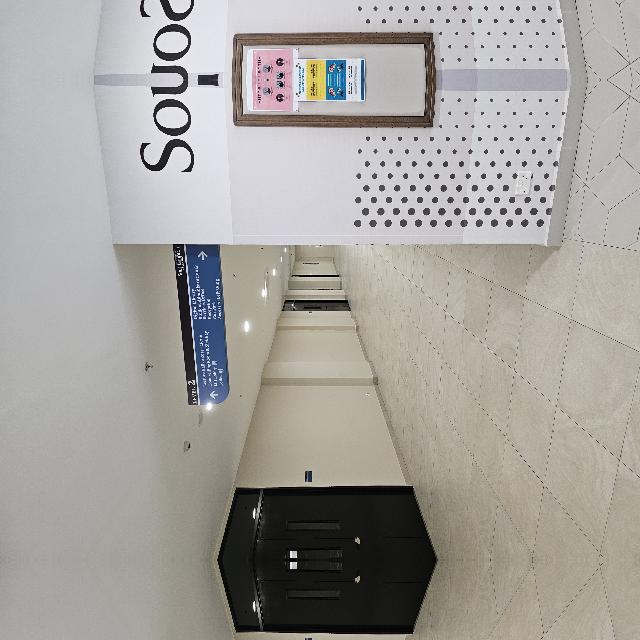door: (0, 336, 80, 508), (0, 612, 79, 640)
